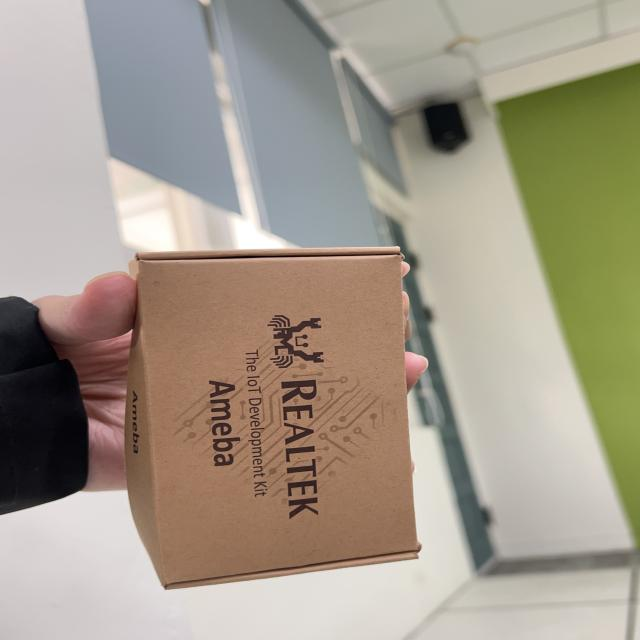box: (102, 236, 442, 600)
